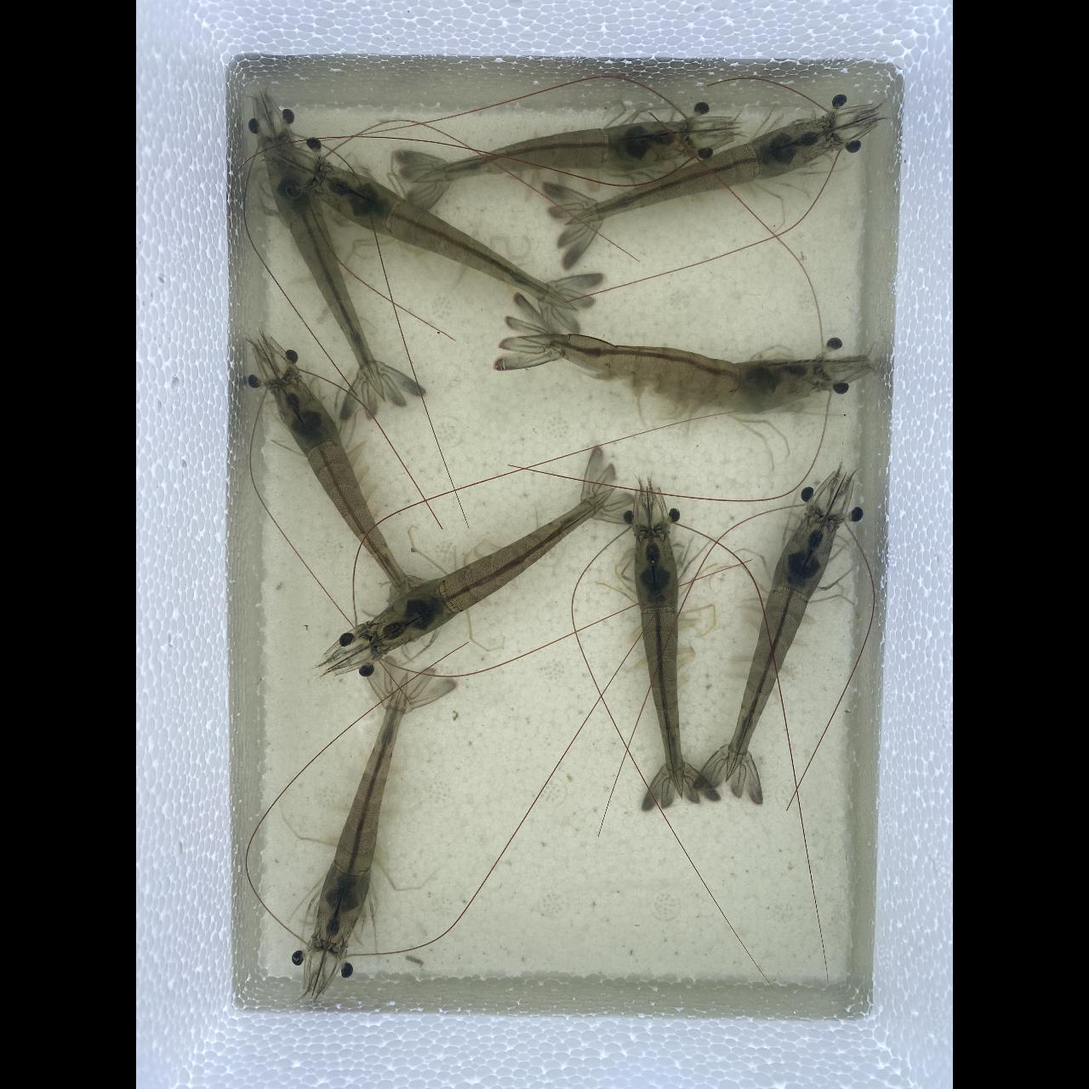top_shrimp: (371, 487, 616, 651), (317, 166, 580, 311), (262, 134, 383, 400), (273, 378, 413, 604), (726, 516, 835, 782), (568, 119, 834, 222), (315, 672, 408, 941), (517, 333, 824, 405), (413, 120, 695, 182), (633, 529, 682, 795)
